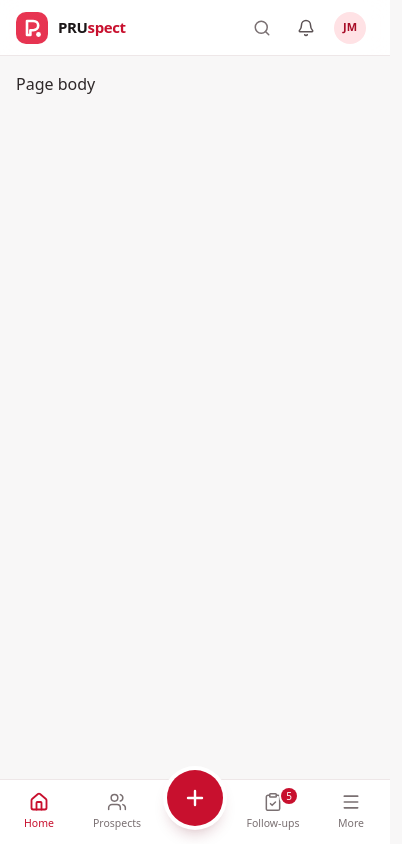
phone bottom bar › has a center add-prospect button that becomes the active item
Click the link named "Add prospect": (195, 798) x1=167 y1=770 x2=223 y2=826
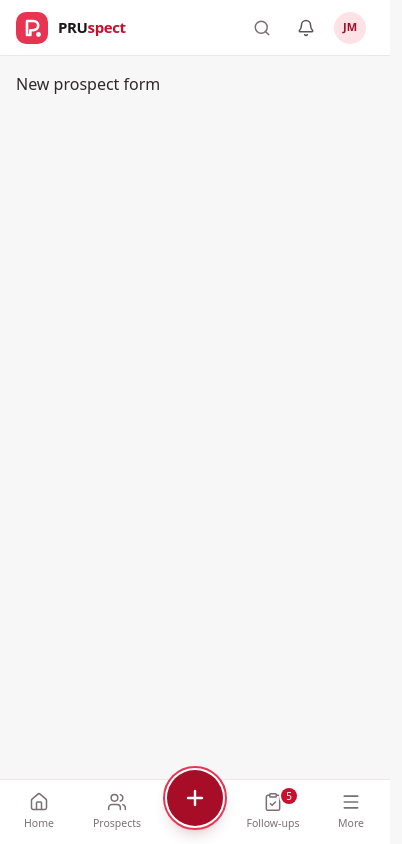
Result: the text "New prospect form" is shown at x1=16 y1=73 x2=160 y2=95
